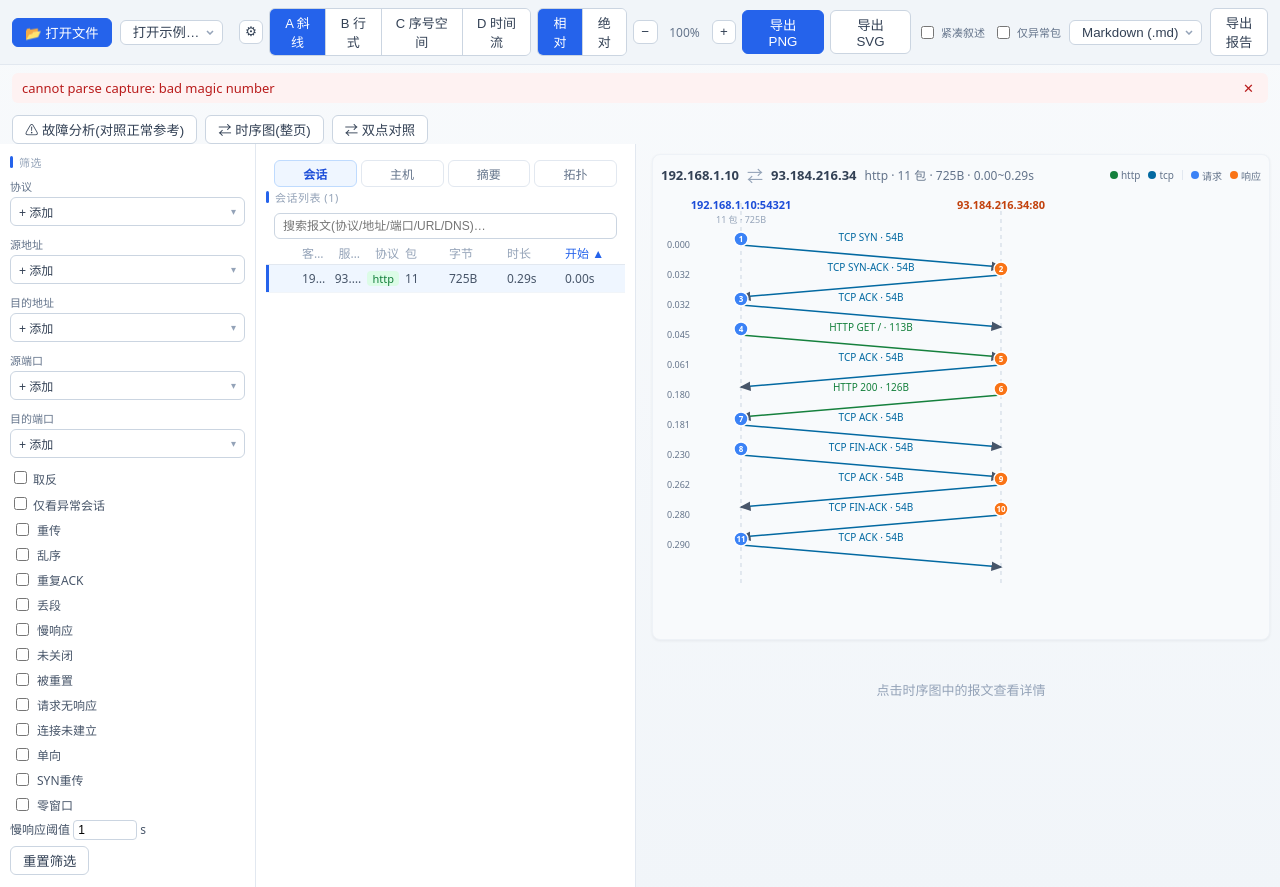
Test: 错误 banner 手动关闭 › 打开损坏文件出现 error banner;点 ✕ 后 error 消失(无需重新加载)
Expected: the element with class "err" is shown, [12,73,1268,103]
Expected: the element with class "err" shows "cannot parse capture", [22,79,275,97]
Click the button with test id "dismiss-error" at (1249, 88), box [1239,80,1258,96]
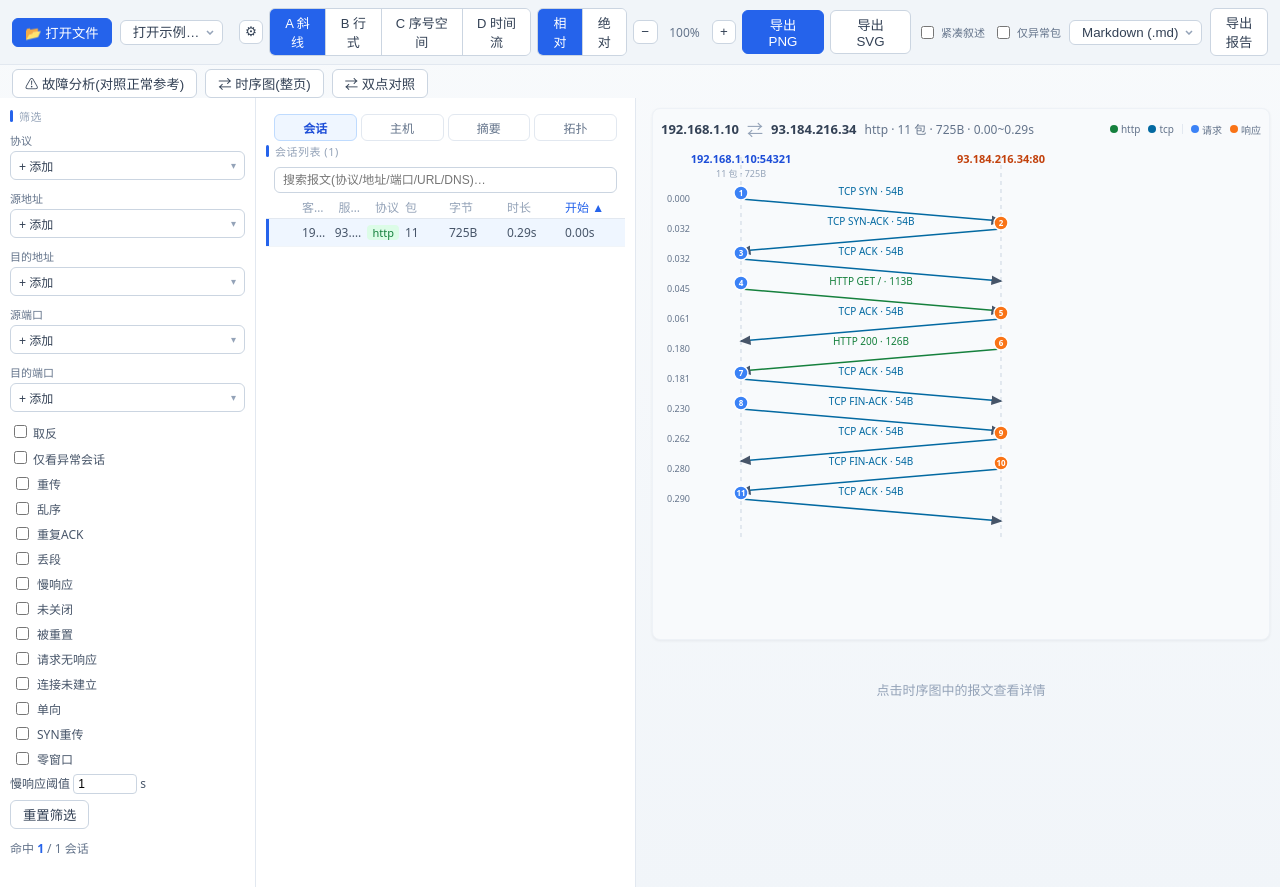
Result: the element with class "err" is gone
